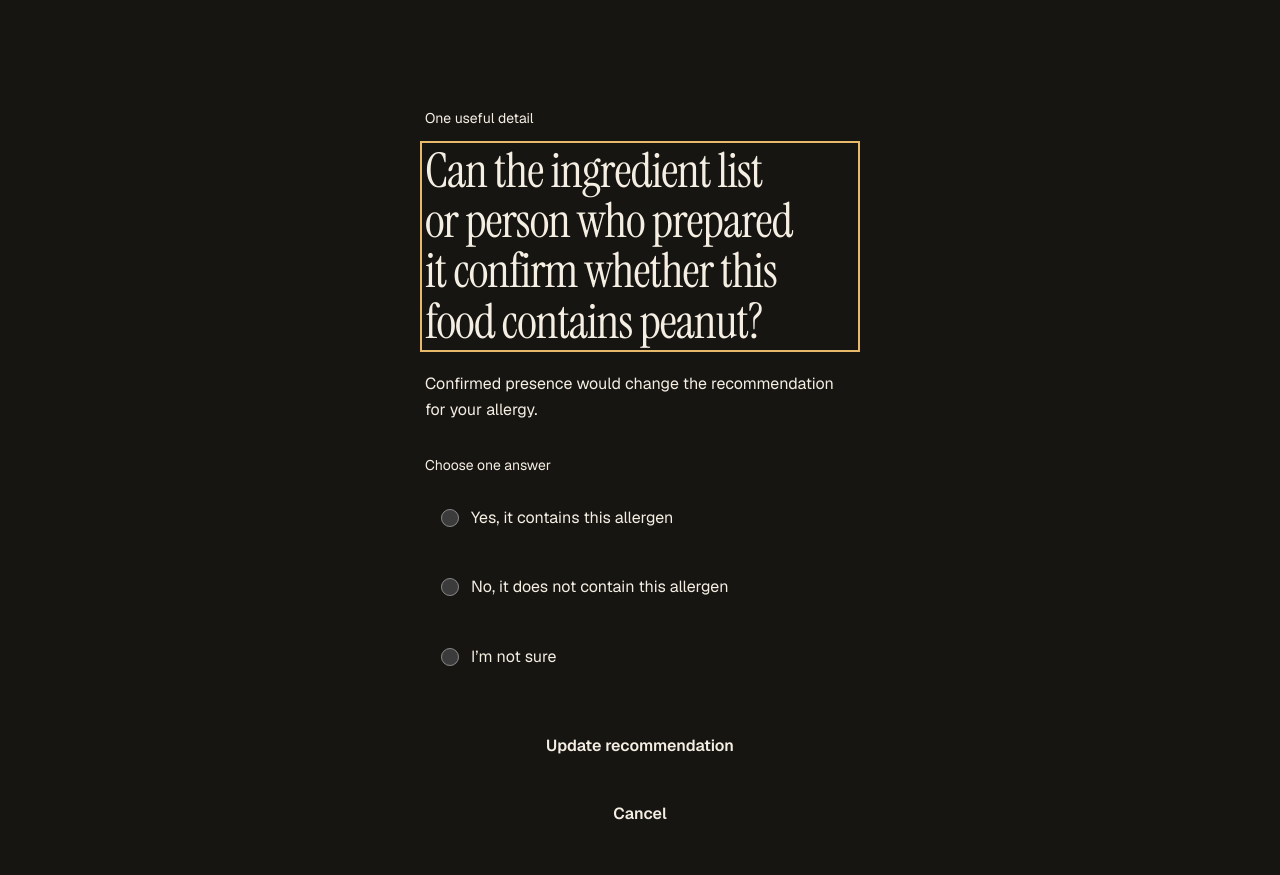
it: ClarificationFlow › keeps the dialog open and reports a rejected answer safely
The width and height of the screenshot is (1280, 875).
Click the radio button labelled "Yes, it contains this allergen".
click(450, 518)  # box [441,508,459,526]
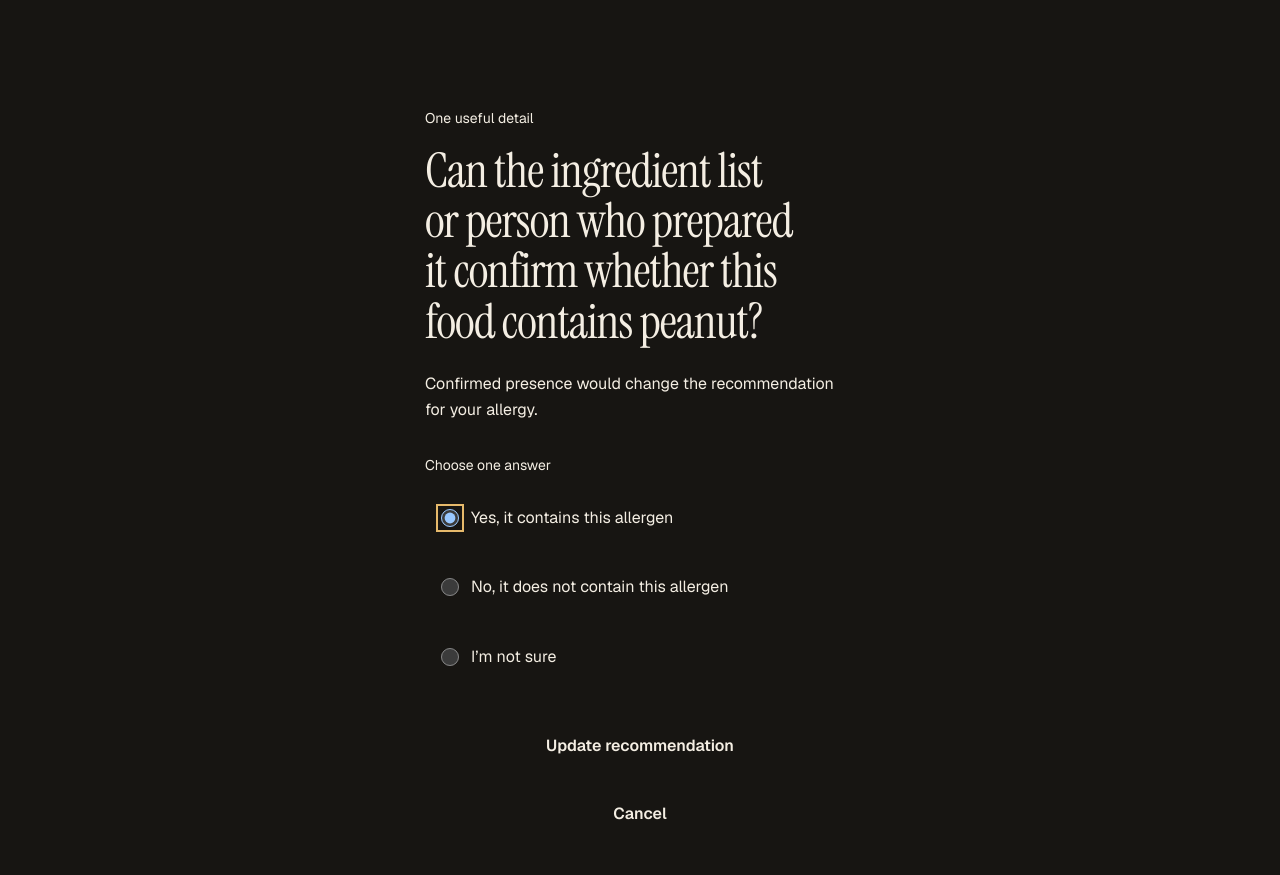
Click the button "Update recommendation".
click(640, 746)  # box [425,718,855,774]
(page scrolled)
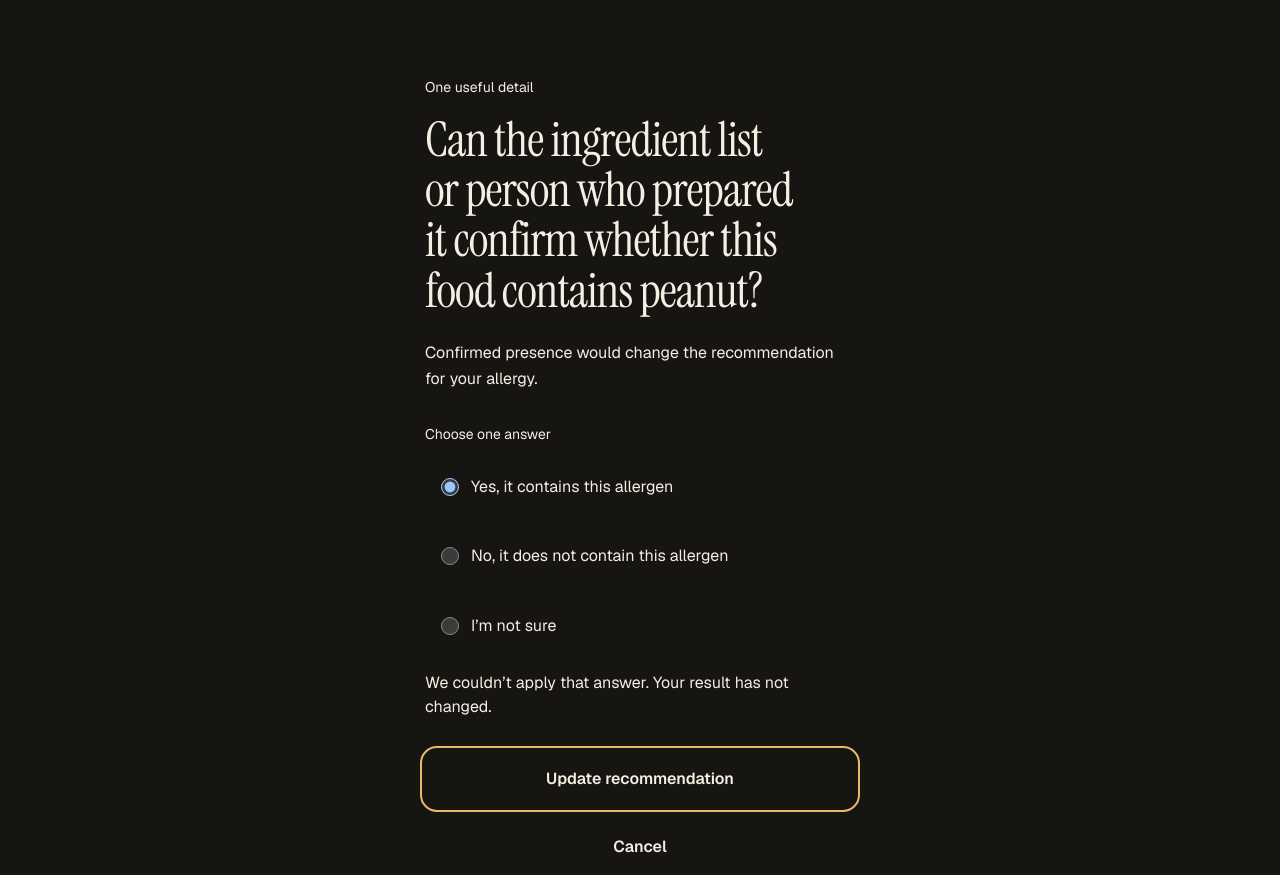
Expected: the dialog is shown, [425,76,855,874]
Now the message shows "Your result has not changed.", box [425,672,789,716]
